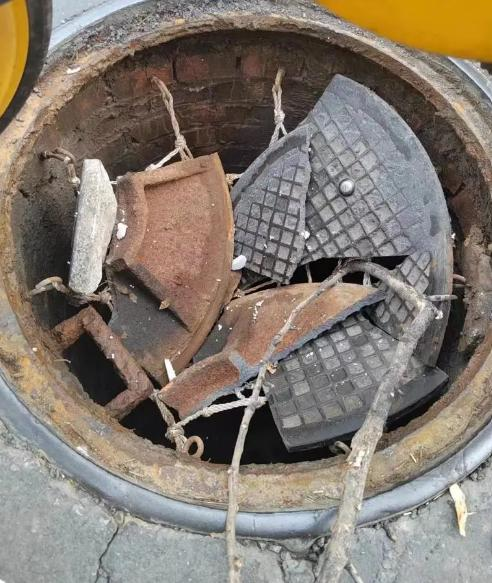wellcover: (3, 4, 481, 501)
